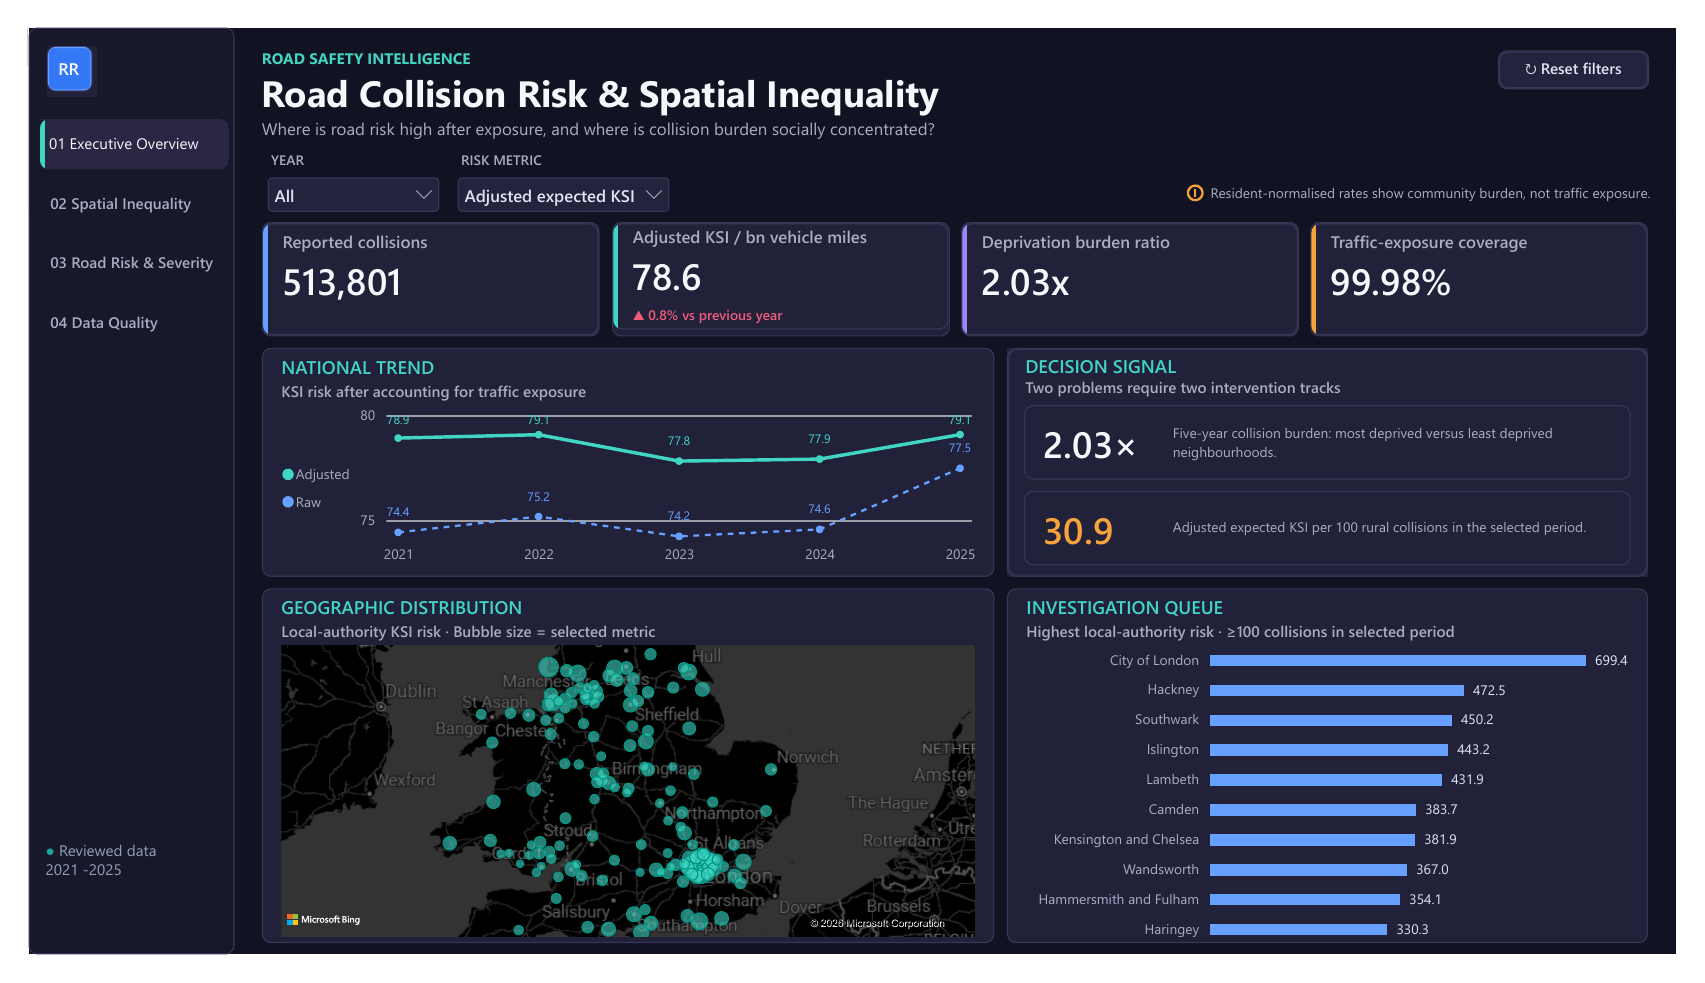

What the dashboard file says about the page in this screenshot:
{"tool":"powerbi","page":{"name":"01 Executive Overview","canvas":[1440,810],"ordinal":0},"visuals":[{"type":"shape","box":[0,0,180,810],"z":0},{"type":"shape","box":[16,16,40,40],"z":1000,"group":"g1"},{"type":"textbox","box":[15,710,120,50],"z":1000},{"type":"textbox","box":[26,26,33.8,34.6],"z":2000,"group":"g1"},{"type":"pageNavigator","box":[10,80,165,200],"z":2000},{"type":"group","id":"g1","title":"Group 7","box":[16,16,43.8,44.6],"z":3000},{"type":"actionButton","title":"Reset filters","box":[1284,20,132,34],"z":4000},{"type":"textbox","box":[204,18,700,85],"z":5000},{"type":"slicer","fields":{"Values":["dim_year.year_label"]},"box":[204,108,160,54],"z":6000},{"type":"slicer","fields":{"Values":["Risk Metric Selector.Risk Metric"]},"box":[370,108,195,54],"z":7000},{"type":"cardVisual","title":"Reported collisions","fields":{"Data":["_Measures.Collision Count Display"]},"box":[204,170,295,100],"z":8000},{"type":"cardVisual","title":"Reported collisions","fields":{"Data":["_Measures.Adjusted KSI per Billion Vehicle Miles"]},"box":[510,170,295,100],"z":9000},{"type":"cardVisual","title":"Reported collisions","fields":{"Data":["_Measures.Most-to-Least Deprived Ratio"]},"box":[815,170,295,100],"z":10000},{"type":"cardVisual","title":"Reported collisions","fields":{"Data":["_Measures.Exposure Coverage"]},"box":[1120,170,295,100],"z":11000},{"type":"lineChart","title":"NATIONAL TREND","fields":{"Category":["dim_year.collision_year"],"Y":["_Measures.Adjusted KSI per Billion Vehicle Miles","_Measures.Raw KSI per Billion Vehicle Miles"]},"box":[204,280,640,200],"z":12000},{"type":"map","title":"GEOGRAPHIC DISTRIBUTION","fields":{"Category":["dim_local_authority.local_authority_name"],"Size":["_Measures.Selected Risk Metric"],"X":["Avg(dim_local_authority.longitude)"],"Y":["Avg(dim_local_authority.latitude)"]},"box":[204,490,640,310],"z":13000},{"type":"shape","box":[855,280,560,200],"z":14000,"group":"g2"},{"type":"clusteredBarChart","title":"INVESTIGATION QUEUE","fields":{"Category":["dim_local_authority.local_authority_name"],"Y":["_Measures.Selected Risk Metric"]},"box":[855,490,560,310],"z":14000},{"type":"actionButton","box":[1000,130,440,30],"z":15000},{"type":"textbox","box":[855,280,450,50],"z":16000,"group":"g2"},{"type":"group","id":"g2","title":"Group 1","box":[855,280,560,200],"z":16000},{"type":"cardVisual","fields":{"Data":["_Measures.Five-Year Deprivation Burden Ratio"]},"box":[870,330,530,65],"z":17000,"group":"g2"},{"type":"cardVisual","fields":{"Data":["_Measures.Rural Adjusted KSI per 100 Collisions"]},"box":[870,405,530,65],"z":18000,"group":"g2"},{"type":"textbox","box":[1000,345,350,35],"z":19000,"group":"g2"},{"type":"textbox","box":[1000,427,375,27],"z":20000,"group":"g2"}]}

Visuals, with their boxes in screenshot pixels (x1, y1, x2, y2), scaled from the page's 1440x810 canvas onto the 1705x983 screenshot:
shape: rect(0, 0, 213, 982)
shape: rect(19, 19, 66, 68)
textbox: rect(18, 862, 160, 922)
textbox: rect(31, 32, 71, 74)
pageNavigator: rect(12, 97, 207, 340)
"Group 7" group: rect(19, 19, 71, 74)
"Reset filters" actionButton: rect(1520, 24, 1677, 66)
textbox: rect(242, 22, 1070, 125)
slicer - dim_year.year_label: rect(242, 131, 431, 197)
slicer - Risk Metric Selector.Risk Metric: rect(438, 131, 669, 197)
"Reported collisions" cardVisual: rect(242, 206, 591, 328)
"Reported collisions" cardVisual: rect(604, 206, 953, 328)
"Reported collisions" cardVisual: rect(965, 206, 1314, 328)
"Reported collisions" cardVisual: rect(1326, 206, 1675, 328)
"NATIONAL TREND" lineChart: rect(242, 340, 999, 583)
"GEOGRAPHIC DISTRIBUTION" map: rect(242, 595, 999, 971)
shape: rect(1012, 340, 1675, 583)
"INVESTIGATION QUEUE" clusteredBarChart: rect(1012, 595, 1675, 971)
actionButton: rect(1184, 158, 1704, 194)
textbox: rect(1012, 340, 1545, 400)
"Group 1" group: rect(1012, 340, 1675, 583)
cardVisual - _Measures.Five-Year Deprivation Burden Ratio: rect(1030, 400, 1658, 479)
cardVisual - _Measures.Rural Adjusted KSI per 100 Collisions: rect(1030, 492, 1658, 570)
textbox: rect(1184, 419, 1598, 461)
textbox: rect(1184, 518, 1628, 551)
